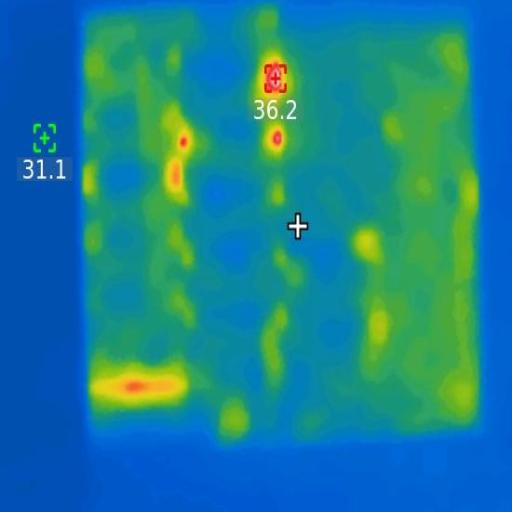hotspot: (264, 66, 290, 94), (271, 125, 285, 154), (128, 381, 154, 393), (178, 133, 190, 149)
